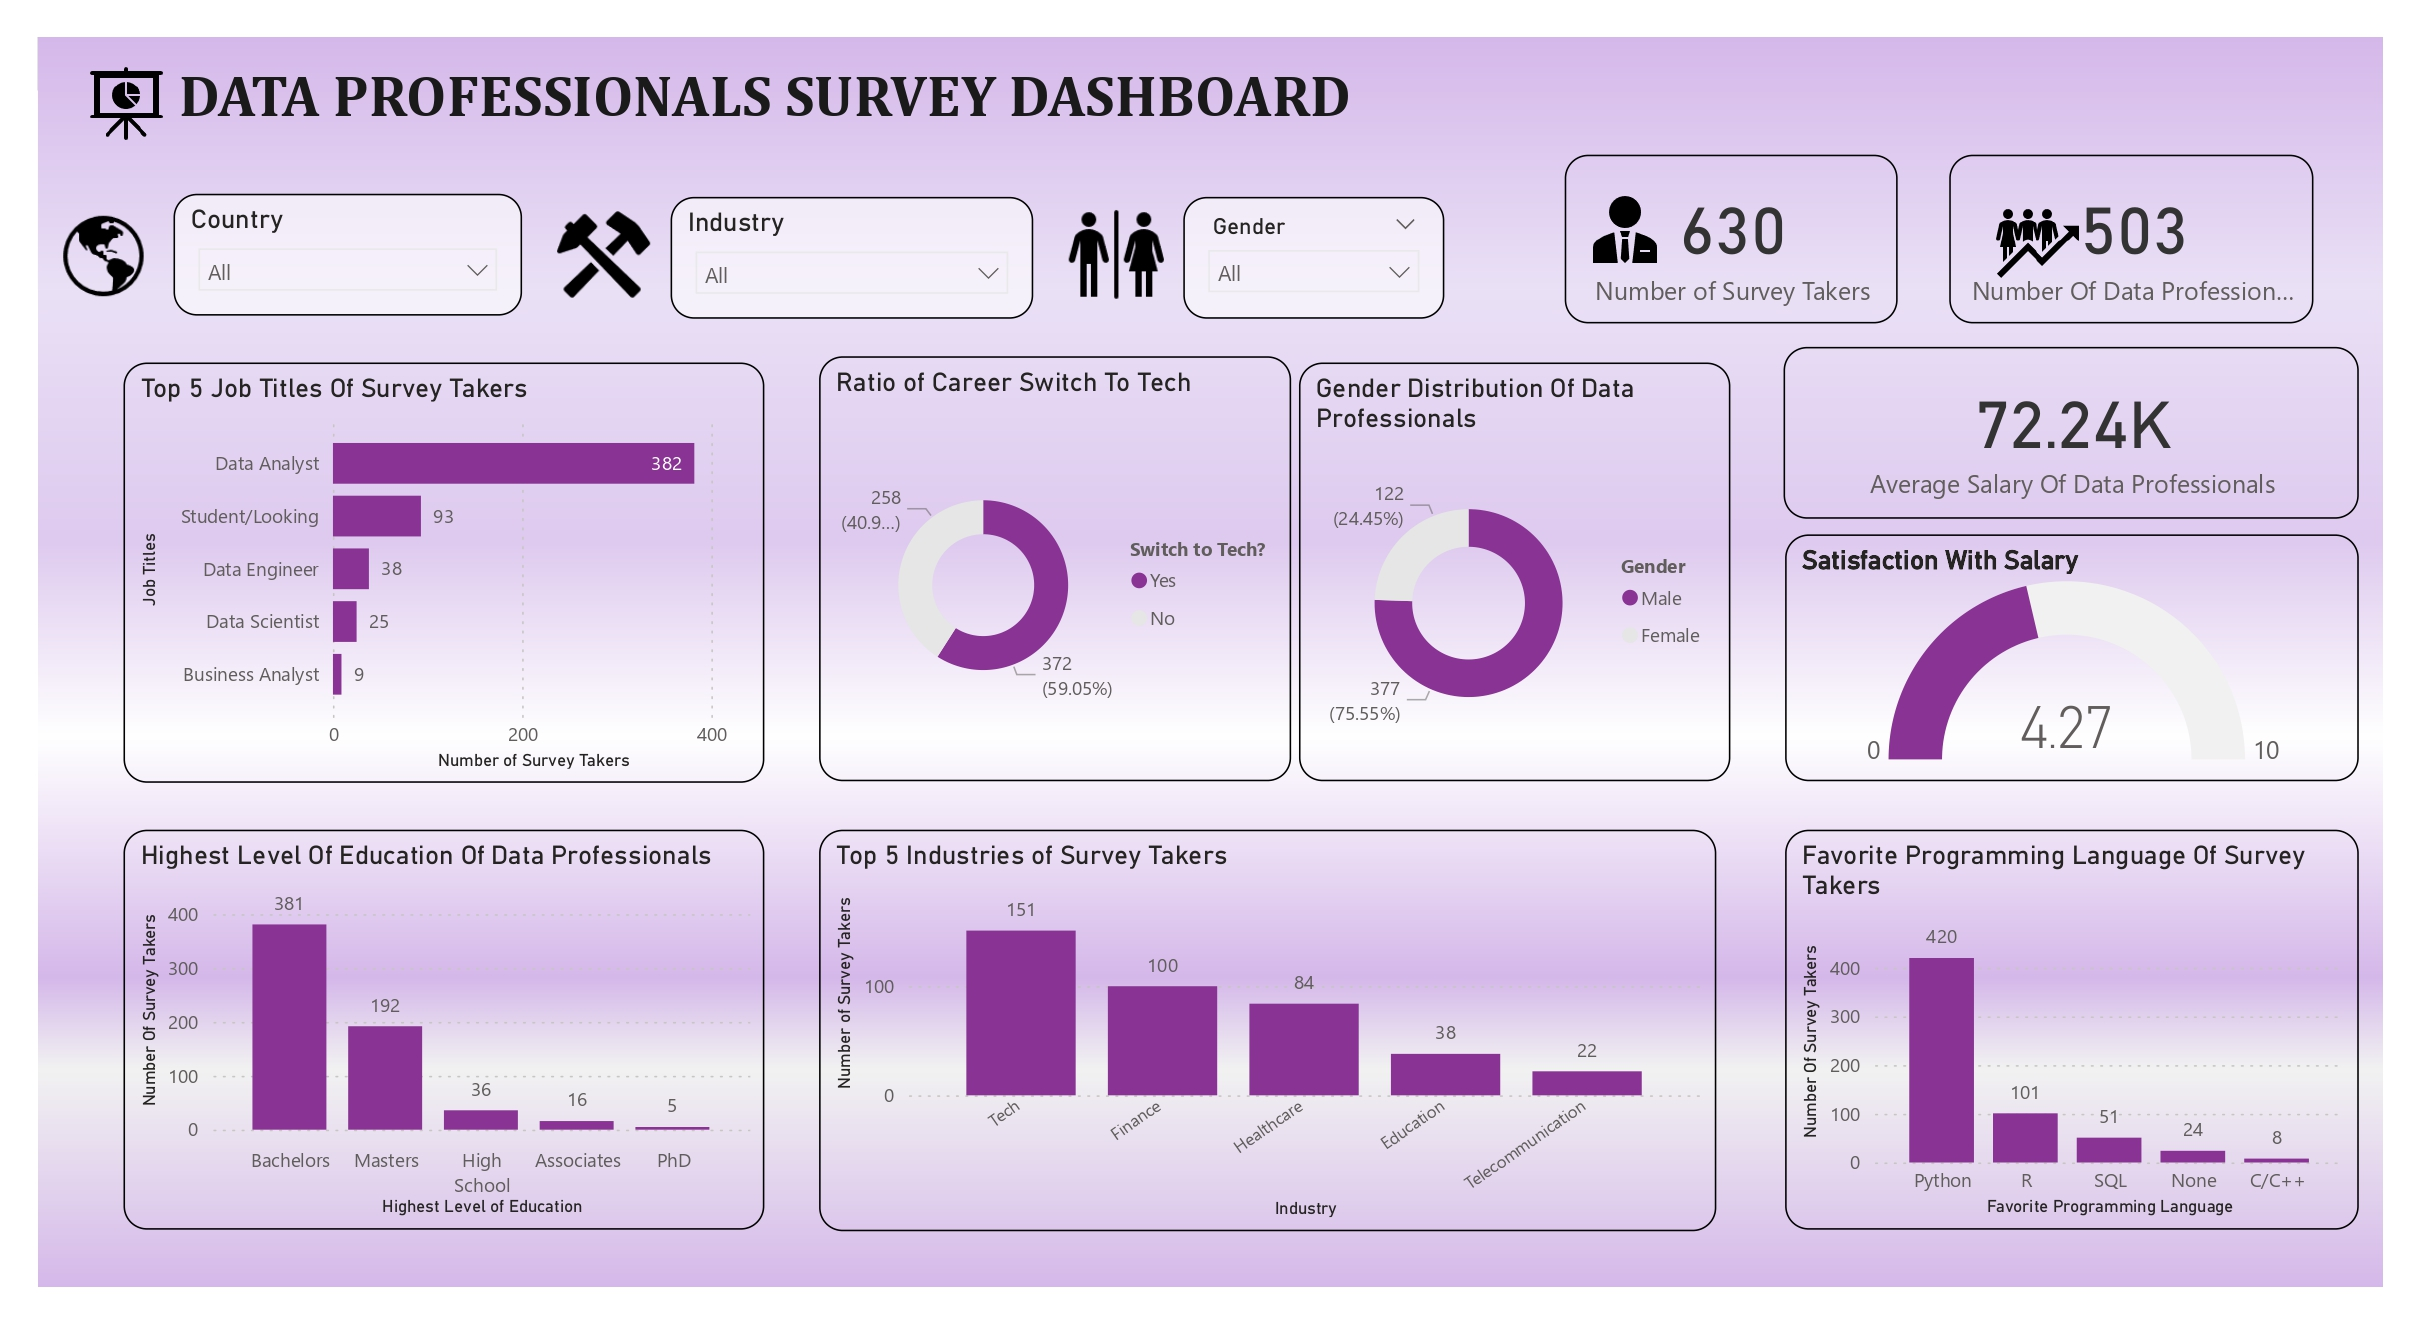

Layout of this report page (visuals, bound fields, positions):
{"tool":"powerbi","page":{"name":"Dashboard","canvas":[1500,800],"ordinal":0},"visuals":[{"type":"textbox","box":[37.1,10,857.1,61.4],"z":0},{"type":"card","fields":{"Values":["Avg(Data Professional Survey.Current Yearly Salary (in USD))"]},"box":[1116.7,198.3,368.3,109.7],"z":1000,"group":"g2"},{"type":"clusteredBarChart","title":"Top 5 Job Titles Of Survey Takers","fields":{"Category":["Data Professional Survey.Which Title Best Fits your Current Role?"],"Y":["CountNonNull(Data Professional Survey.Unique ID)"]},"box":[55,208.3,410,268.3],"z":1000},{"type":"clusteredColumnChart","title":"Favorite Programming Language Of Survey Takers","fields":{"Category":["Data Professional Survey.Favorite Programming Language"],"Y":["CountNonNull(Data Professional Survey.Unique ID)"]},"box":[1118.3,506.7,366.7,256.7],"z":2000},{"type":"slicer","fields":{"Values":["Data Professional Survey.Gender"]},"box":[733.3,101.7,166.7,78.3],"z":3000},{"type":"donutChart","title":"Ratio of Career Switch To Tech","fields":{"Category":["Data Professional Survey.Did you switch careers into Data?"],"Y":["CountNonNull(Data Professional Survey.Did you switch careers into Data?)"]},"box":[500,204.4,301.7,271.7],"z":3000,"group":"g1"},{"type":"slicer","title":"Country","fields":{"Values":["Data Professional Survey.Which Country do you live in?"]},"box":[86.7,100,223.3,78.3],"z":4000},{"type":"card","fields":{"Values":["CountNonNull(Data Professional Survey.Unique ID)"]},"box":[1223.3,75,233.3,108.3],"z":4500,"group":"g3"},{"type":"card","fields":{"Values":["CountNonNull(Data Professional Survey.Unique ID)"]},"box":[976.7,75,213.3,108.3],"z":5000},{"type":"gauge","title":"Satisfaction With Salary","fields":{"Y":["Avg(Data Professional Survey.Happiness with Current Position (Salary))"],"MinValue":["Min(Data Professional Survey.Happiness with Current Position (Salary))1"],"MaxValue":["Max(Data Professional Survey.Happiness with Current Position (Salary))"]},"box":[1118,318.1,366.7,158.5],"z":5000,"group":"g2"},{"type":"clusteredColumnChart","title":"Highest Level Of Education Of Data Professionals","fields":{"Category":["Data Professional Survey.Highest Level of Education"],"Y":["CountNonNull(Data Professional Survey.Unique ID)"]},"box":[55,506.7,410,256.7],"z":6000},{"type":"group","id":"g1","title":"Group 1","box":[500,204.4,583.3,272.2],"z":7000},{"type":"group","id":"g2","title":"Group 2","box":[1116.7,198.3,368.3,278.3],"z":8000},{"type":"slicer","title":"Industry","fields":{"Values":["Data Professional Survey.What Industry do you work in?"]},"box":[405,101.7,231.7,78.3],"z":9000},{"type":"image","box":[5.7,7.1,100,68.6],"z":10000},{"type":"image","box":[0,101.7,85,75],"z":11000},{"type":"donutChart","title":"Gender Distribution Of Data Professionals","fields":{"Category":["Data Professional Survey.Gender"],"Y":["CountNonNull(Data Professional Survey.Unique ID)"]},"box":[806.7,208.3,276.7,268.3],"z":11000,"group":"g1"},{"type":"image","box":[320,101,85,75],"z":12000},{"type":"image","box":[648,101,85,75],"z":13000},{"type":"image","box":[976.7,86.7,76.7,71.7],"z":14000},{"type":"clusteredColumnChart","title":"Top 5 Industries of Survey Takers","fields":{"Category":["Data Professional Survey.What Industry do you work in?"],"Y":["CountNonNull(Data Professional Survey.Unique ID)"]},"box":[500,507.1,574.3,257.1],"z":15000},{"type":"group","id":"g3","title":"Group 3","box":[1223.3,75,233.3,108.3],"z":16000},{"type":"image","box":[1239.2,94.7,79.4,70.6],"z":16000,"group":"g3"}]}

Visuals, with their boxes on the page's 1500x800 design canvas (x1, y1, x2, y2). These are canvas units, not pixel positions in the 2420x1325 screenshot, which may show the page scaled, cropped or inside an application window:
textbox: left=37, top=10, right=894, bottom=71
card - Avg(Data Professional Survey.Current Yearly Salary (in USD)): left=1117, top=198, right=1485, bottom=308
"Top 5 Job Titles Of Survey Takers" clusteredBarChart: left=55, top=208, right=465, bottom=477
"Favorite Programming Language Of Survey Takers" clusteredColumnChart: left=1118, top=507, right=1485, bottom=763
slicer - Data Professional Survey.Gender: left=733, top=102, right=900, bottom=180
"Ratio of Career Switch To Tech" donutChart: left=500, top=204, right=802, bottom=476
"Country" slicer: left=87, top=100, right=310, bottom=178
card - CountNonNull(Data Professional Survey.Unique ID): left=1223, top=75, right=1457, bottom=183
card - CountNonNull(Data Professional Survey.Unique ID): left=977, top=75, right=1190, bottom=183
"Satisfaction With Salary" gauge: left=1118, top=318, right=1485, bottom=477
"Highest Level Of Education Of Data Professionals" clusteredColumnChart: left=55, top=507, right=465, bottom=763
"Group 1" group: left=500, top=204, right=1083, bottom=477
"Group 2" group: left=1117, top=198, right=1485, bottom=477
"Industry" slicer: left=405, top=102, right=637, bottom=180
image: left=6, top=7, right=106, bottom=76
image: left=0, top=102, right=85, bottom=177
"Gender Distribution Of Data Professionals" donutChart: left=807, top=208, right=1083, bottom=477
image: left=320, top=101, right=405, bottom=176
image: left=648, top=101, right=733, bottom=176
image: left=977, top=87, right=1053, bottom=158
"Top 5 Industries of Survey Takers" clusteredColumnChart: left=500, top=507, right=1074, bottom=764
"Group 3" group: left=1223, top=75, right=1457, bottom=183
image: left=1239, top=95, right=1319, bottom=165
